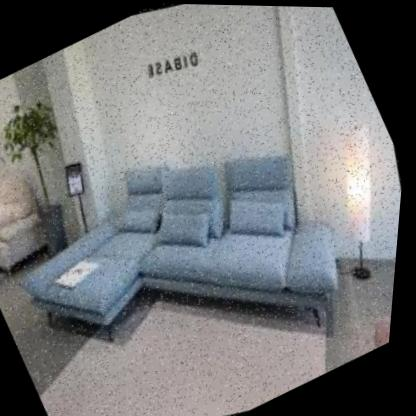Sofa: (0, 28, 414, 416)
